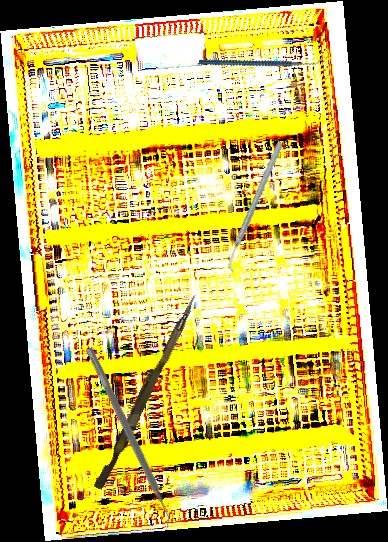Chopper: (189, 140, 323, 274), (197, 16, 326, 105)
Pusher: (93, 290, 199, 493)
Spatula Surgical: (77, 346, 179, 531)
